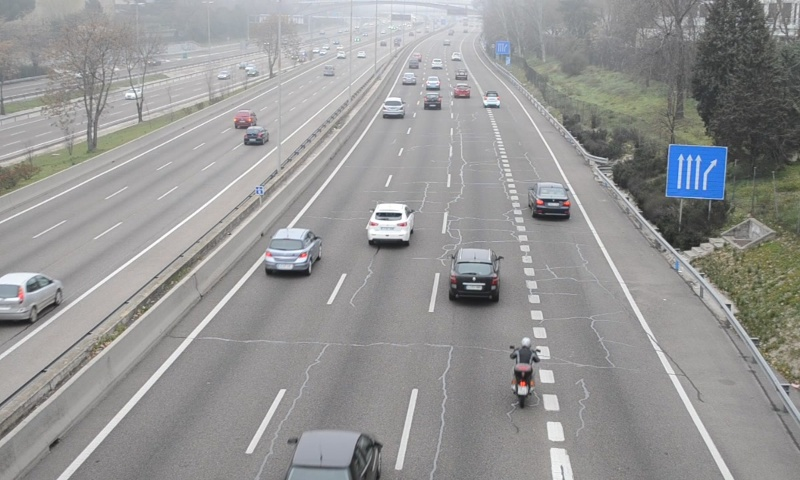car: (285, 432, 382, 480), (262, 227, 322, 276), (448, 248, 500, 303), (368, 202, 415, 243), (530, 180, 571, 220), (381, 96, 406, 118), (482, 89, 500, 108), (423, 91, 441, 110), (454, 82, 472, 98), (424, 75, 441, 91)
motorcycle: (507, 335, 542, 412)
